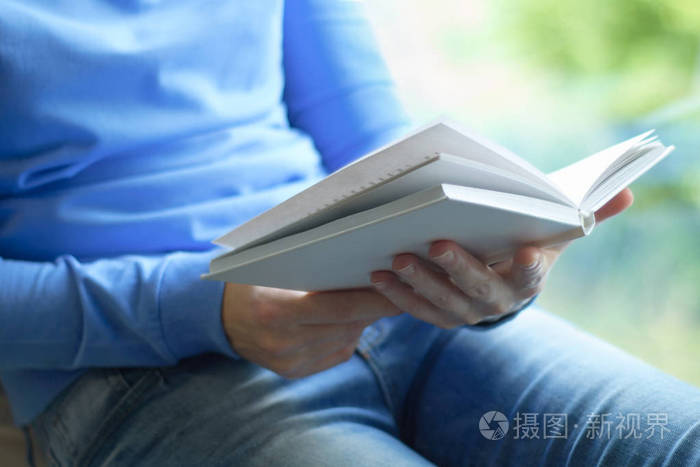no-phone: (369, 179, 648, 334)
